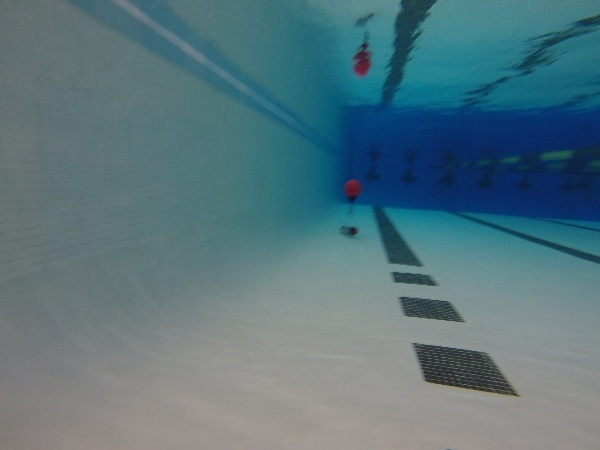buoy_red: (343, 177, 361, 204)
